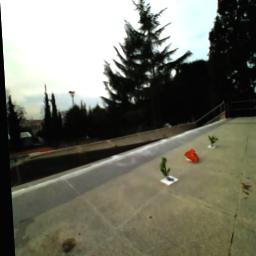herb: (157, 157, 172, 183), (207, 136, 217, 149)
wild: (181, 150, 200, 165)
